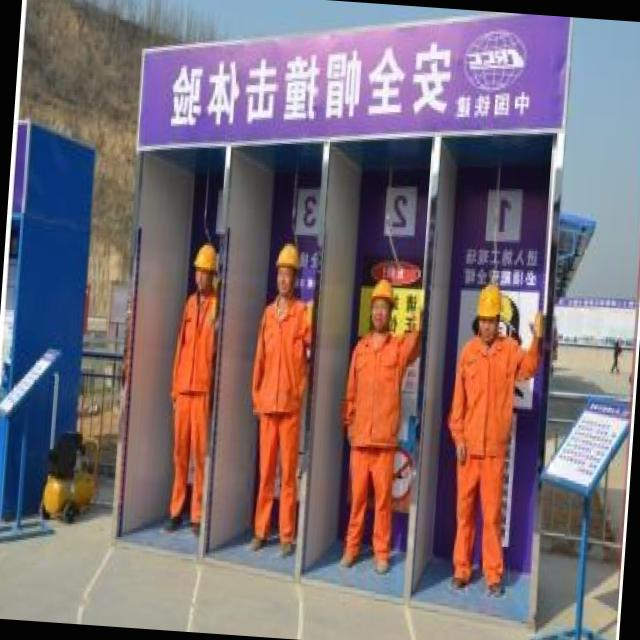helmet: (190, 236, 221, 282), (274, 240, 304, 281), (476, 284, 507, 320), (365, 280, 396, 314)
no-vest: (344, 331, 408, 452), (458, 336, 514, 462), (260, 302, 307, 408), (173, 299, 218, 396)
